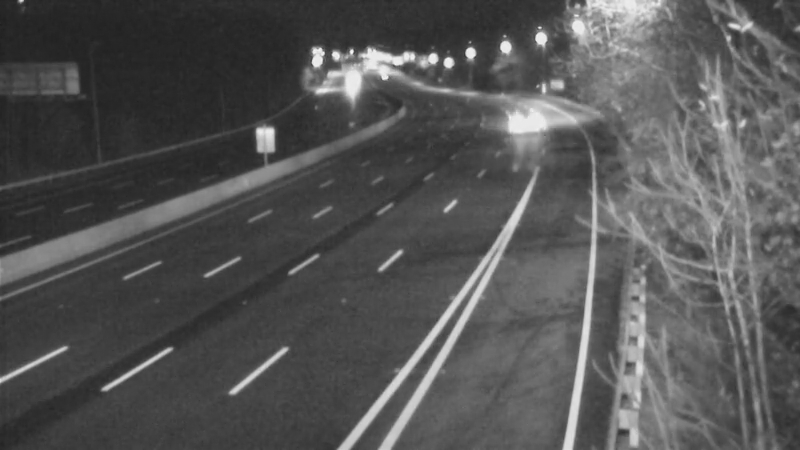vehicle: (496, 97, 546, 147), (324, 61, 374, 111)
